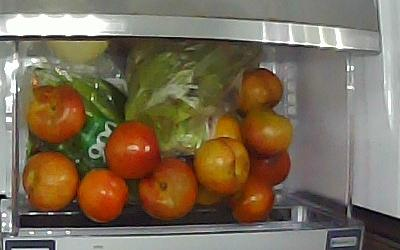prune: (138, 158, 197, 220), (25, 85, 85, 143), (22, 152, 78, 213), (195, 136, 250, 196), (106, 121, 162, 178), (78, 167, 129, 222), (232, 68, 282, 117), (241, 112, 292, 156), (231, 177, 275, 224), (248, 148, 291, 186), (211, 113, 242, 144)
